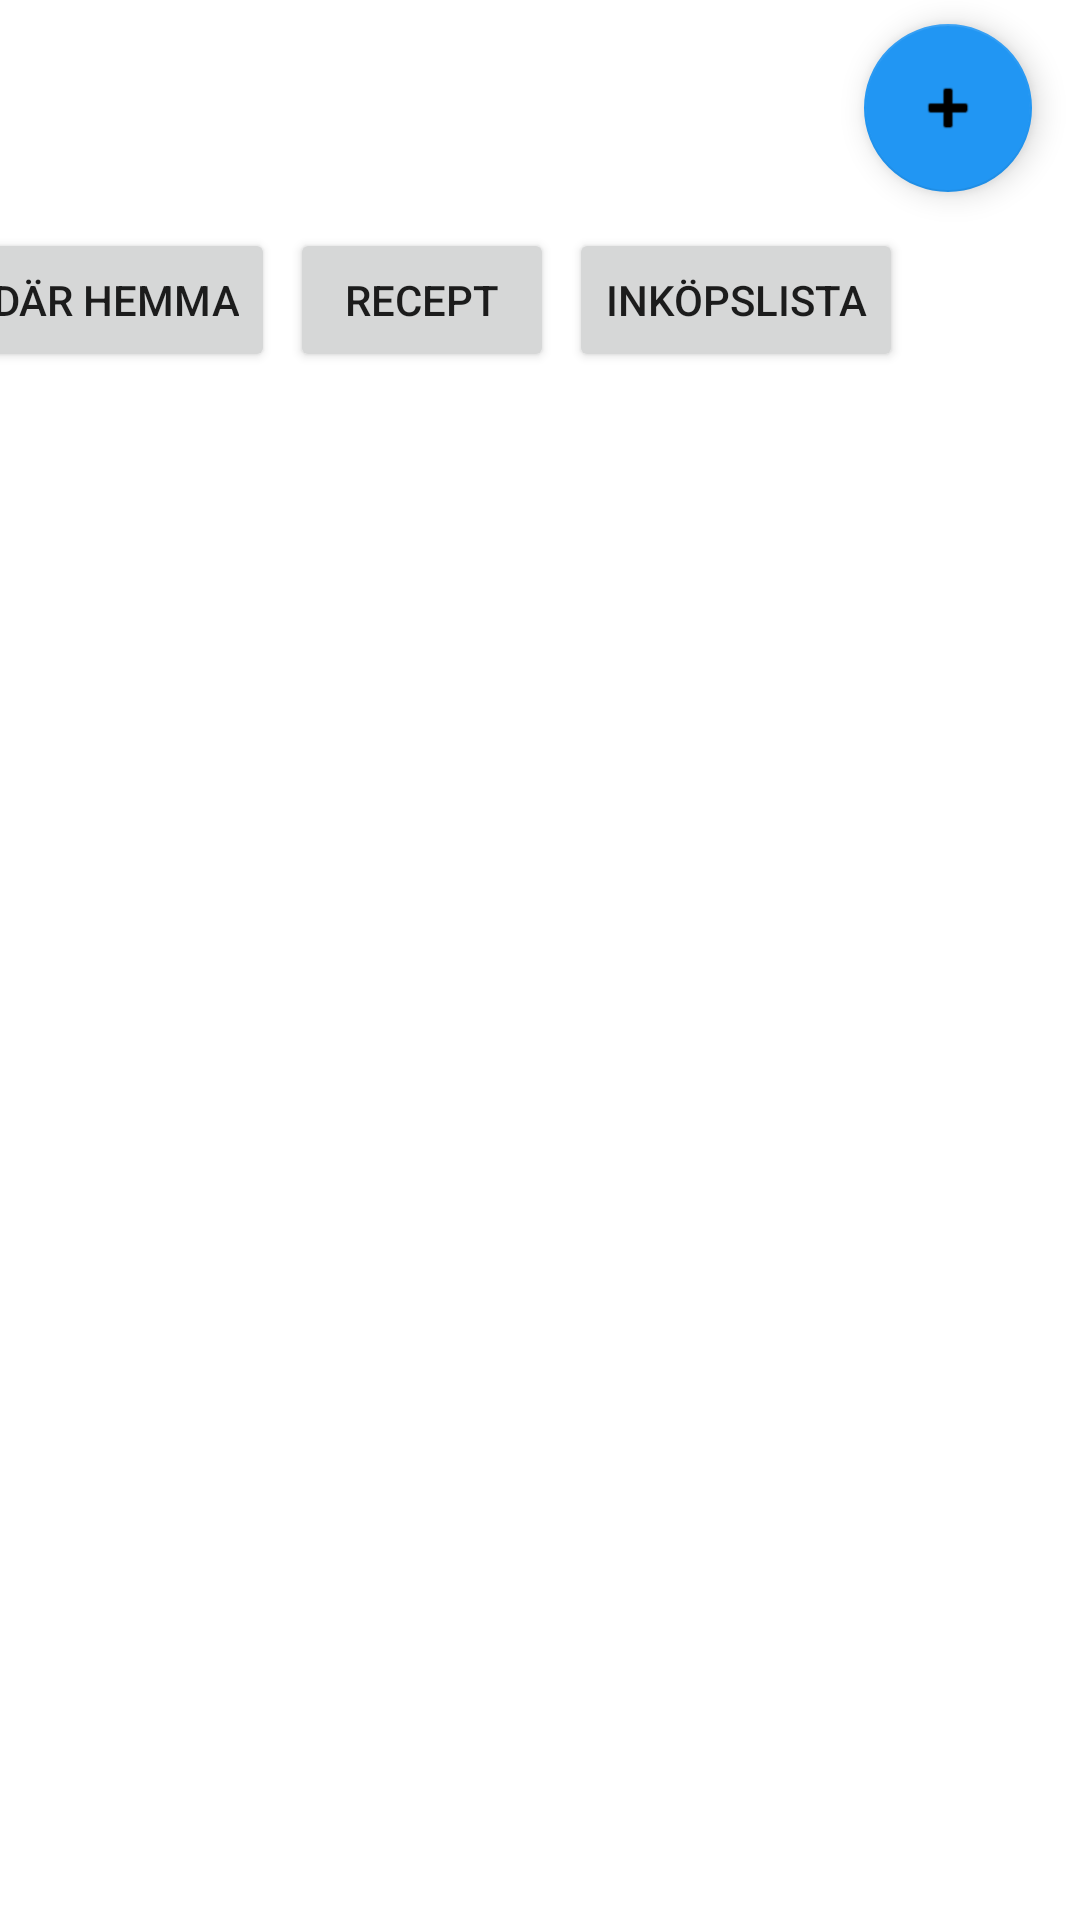

Point at icon controls on the screen. Image size 1080 x 1920, points as point (x, y).
add: point (948, 108)
